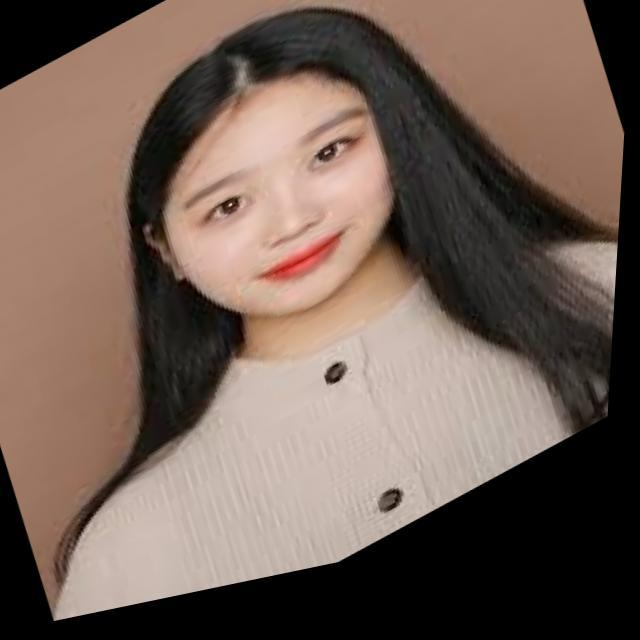Nonhelmet: (123, 2, 419, 325)
